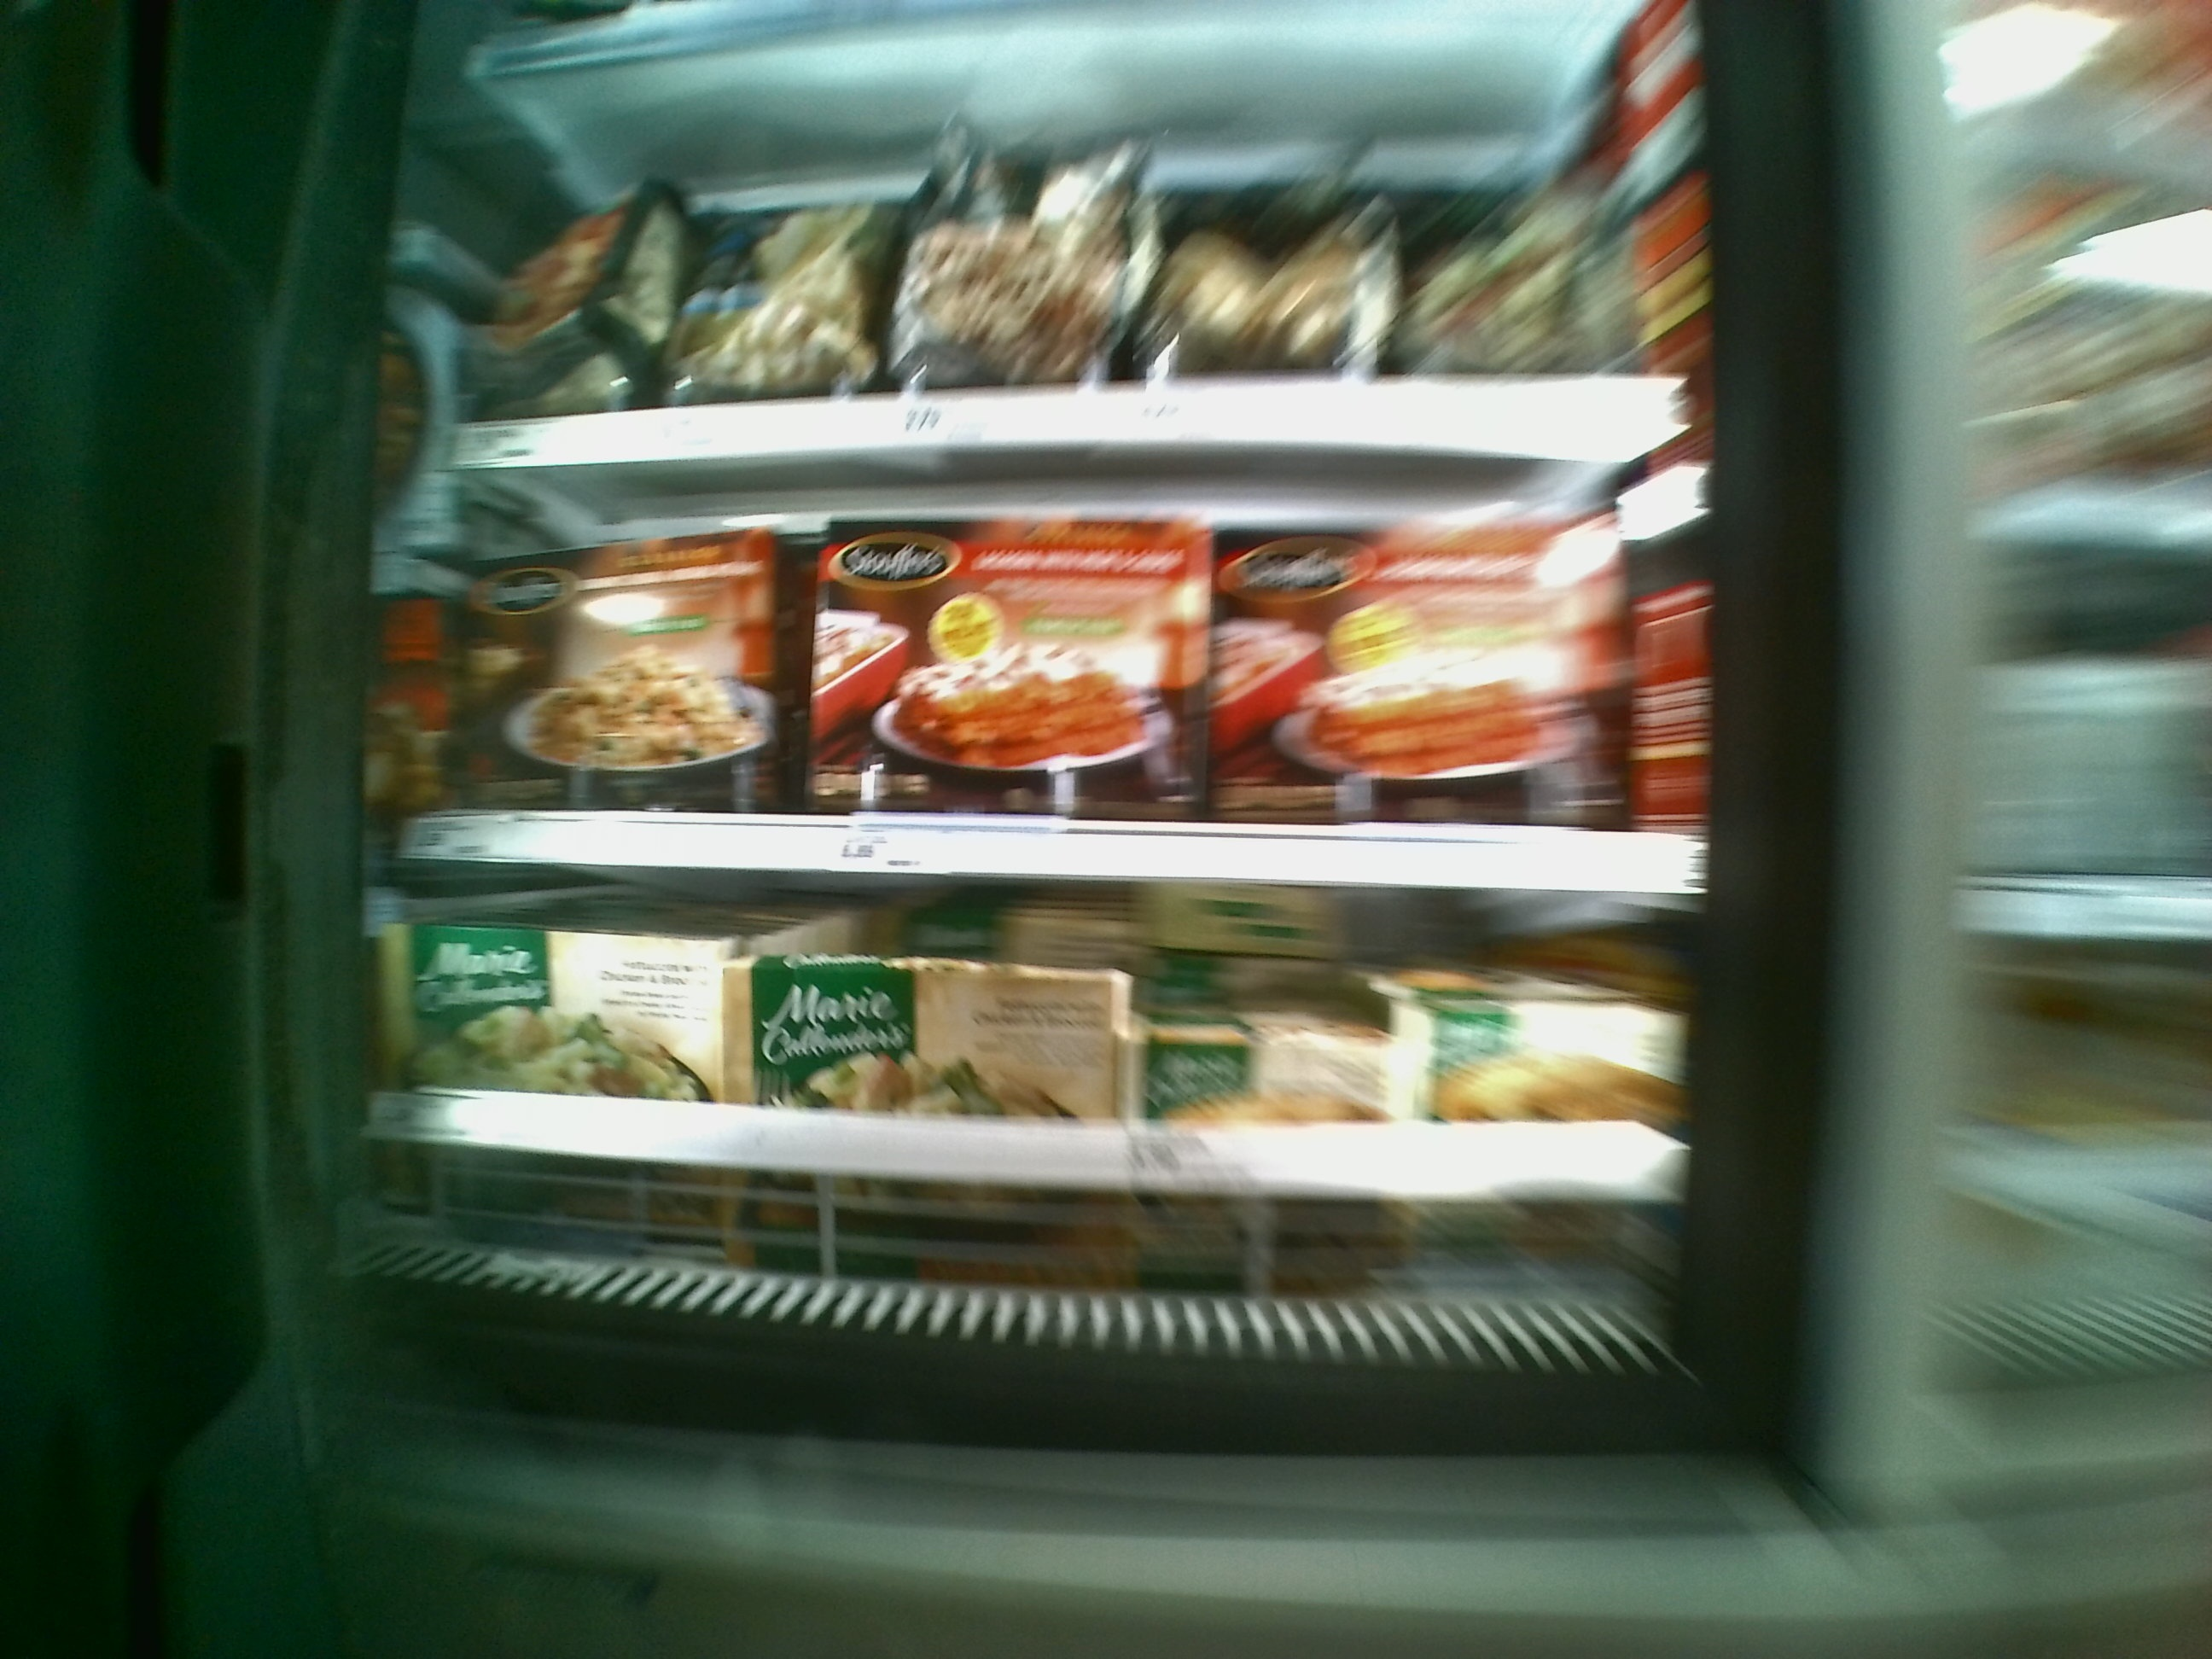shelf: (401, 859, 1702, 1412), (369, 448, 1714, 899)
